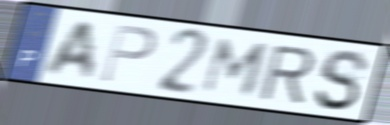2: (152, 25, 212, 98)
A: (42, 18, 97, 81)
M: (198, 35, 273, 98)
P: (97, 22, 159, 85)
R: (256, 44, 317, 105)
S: (311, 47, 372, 114)
